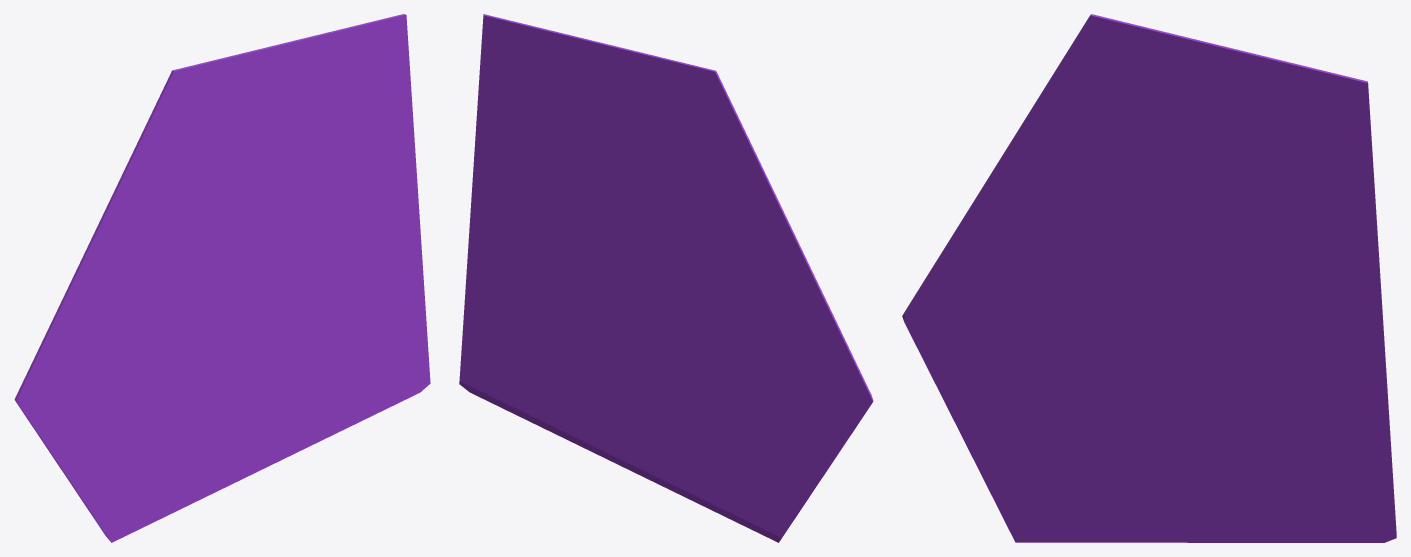
File: Glass_78_4_chunks.fbx
The picture shows the model from 3 angles, left to right: view 1: azimuth 30°, elevation 25°; view 2: azimuth 150°, elevation 25°; view 3: azimuth 330°, elevation 25°; orthographic projection. The views are drawn at different scales.
Visible parts, largest first — view 1: Glass_78_4_3, Glass_78_4_12, Glass_78_4_10, Glass_78_4_6, Glass_78_4_8, Glass_78_4_1, Glass_78_4_9, Glass_78_4_2, Glass_78_4_7, Glass_78_4_5, Glass_78_4_11; view 2: Glass_78_4_3, Glass_78_4_12, Glass_78_4_10, Glass_78_4_6, Glass_78_4_9, Glass_78_4_8, Glass_78_4_1, Glass_78_4_7, Glass_78_4_2, Glass_78_4_5, Glass_78_4_11; view 3: Glass_78_4_3, Glass_78_4_12, Glass_78_4_10, Glass_78_4_6, Glass_78_4_8, Glass_78_4_9, Glass_78_4_2, Glass_78_4_1, Glass_78_4_7, Glass_78_4_5, Glass_78_4_11.
Part boxes in pixels (x1,y1,x2,y2): Glass_78_4_3: (124, 46, 273, 233); Glass_78_4_12: (290, 14, 419, 218); Glass_78_4_10: (287, 214, 430, 397); Glass_78_4_6: (23, 319, 193, 493); Glass_78_4_8: (182, 288, 368, 412); Glass_78_4_1: (14, 170, 157, 413); Glass_78_4_9: (236, 125, 343, 319); Glass_78_4_2: (71, 219, 245, 385); Glass_78_4_7: (198, 372, 408, 479); Glass_78_4_5: (78, 411, 240, 542); Glass_78_4_11: (261, 42, 347, 221); Glass_78_4_3: (615, 46, 764, 232); Glass_78_4_12: (470, 14, 598, 219); Glass_78_4_10: (459, 215, 600, 397); Glass_78_4_6: (693, 318, 864, 495); Glass_78_4_9: (542, 116, 653, 320); Glass_78_4_8: (524, 287, 704, 410); Glass_78_4_1: (731, 171, 873, 414); Glass_78_4_7: (480, 370, 695, 479); Glass_78_4_2: (643, 219, 816, 385); Glass_78_4_5: (649, 414, 810, 542); Glass_78_4_11: (548, 41, 626, 206); Glass_78_4_3: (1032, 14, 1209, 233); Glass_78_4_12: (1231, 48, 1383, 328); Glass_78_4_10: (1225, 292, 1396, 542); Glass_78_4_6: (912, 316, 1113, 464); Glass_78_4_8: (1100, 309, 1322, 488); Glass_78_4_9: (1164, 130, 1292, 377); Glass_78_4_2: (967, 200, 1176, 331); Glass_78_4_1: (902, 108, 1070, 337); Glass_78_4_7: (1118, 437, 1370, 542); Glass_78_4_5: (976, 433, 1169, 542); Glass_78_4_11: (1194, 43, 1297, 293).
Size of the model in its own units: 863 by 908 by 5.32.
